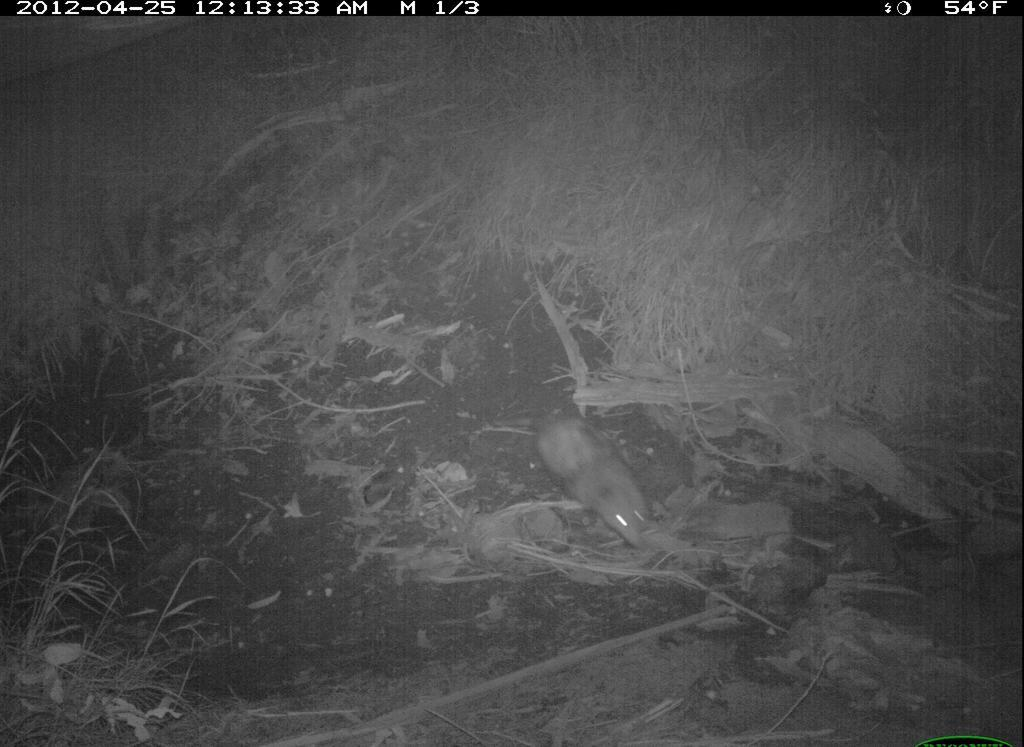opossum: (504, 406, 671, 570)
